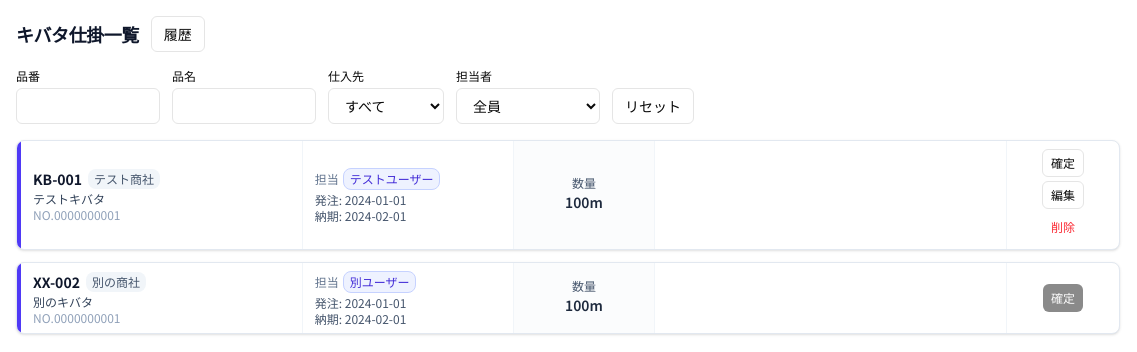
GrayFabricOrderTable フィルター › 担当者で絞り込める
Select "別ユーザー" in the dropdown labelled "担当者" at (528, 106), box [456,88,600,124]
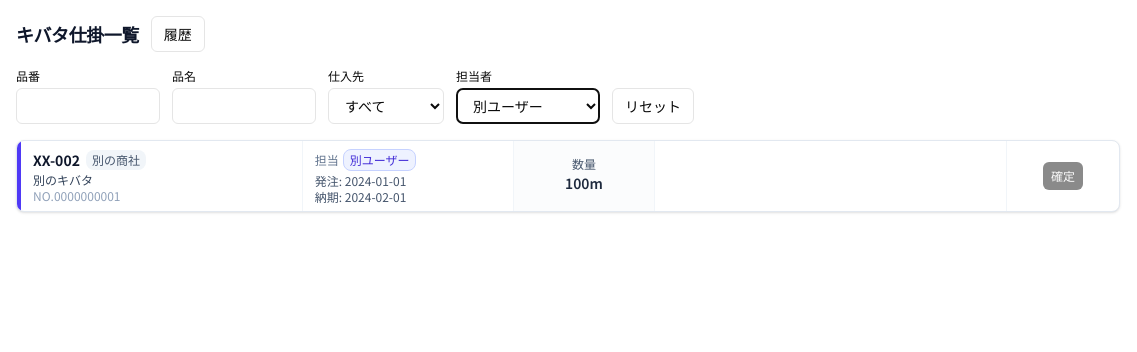
Expected: the text "XX-002" is shown, [33,153,80,167]
Now the text "KB-001" is gone
